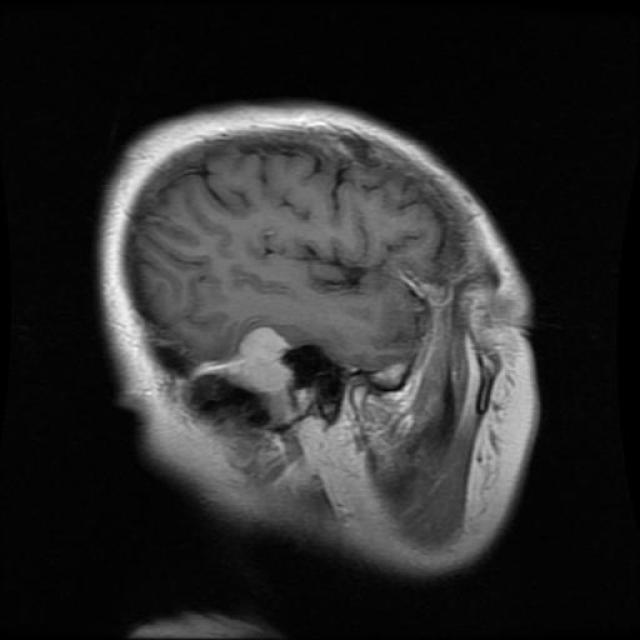meningioma: (197, 313, 301, 407)
